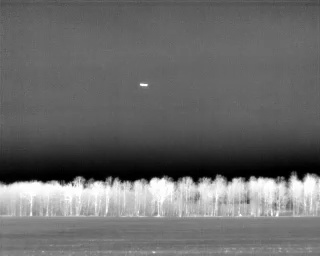DRONE: (136, 79, 151, 91)
